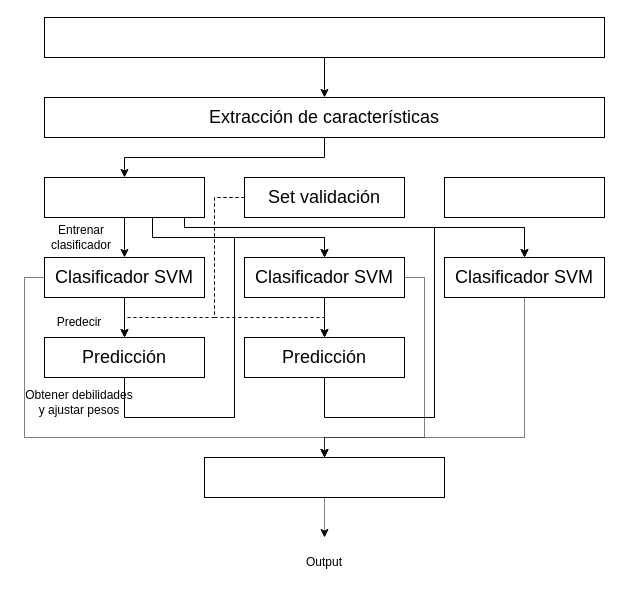
Image size: 622x605. Some labels were removed from this diagram. Each missing label, with the centre of its shape:
Clasificación por votación: (324,477)
Dataset original: (324,37)
Set entrenamiento: (124,197)
Set test: (524,197)
